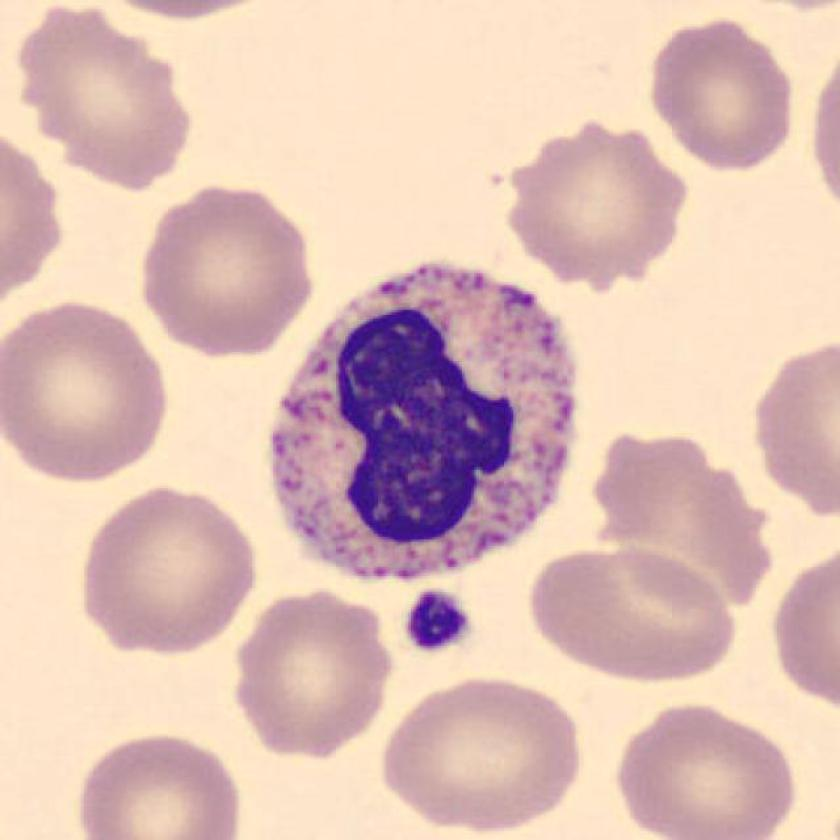neutrophil: (274, 261, 575, 582)
platelets: (408, 594, 475, 652)
